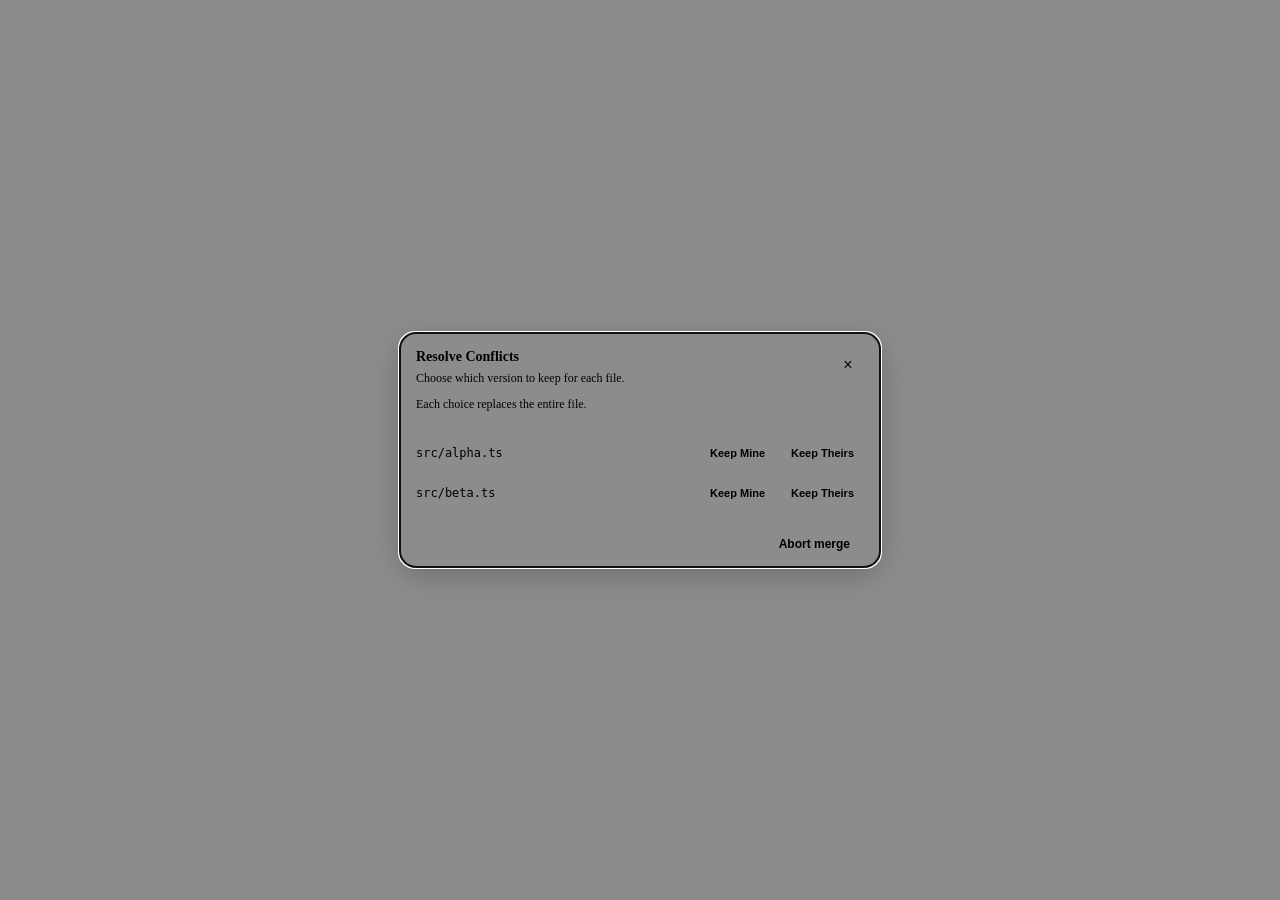
Scenario: ConflictResolver › keeps a failed abort open with an actionable error
Click the button "Abort merge" at {"x": 814, "y": 544}, box [765, 531, 864, 557]
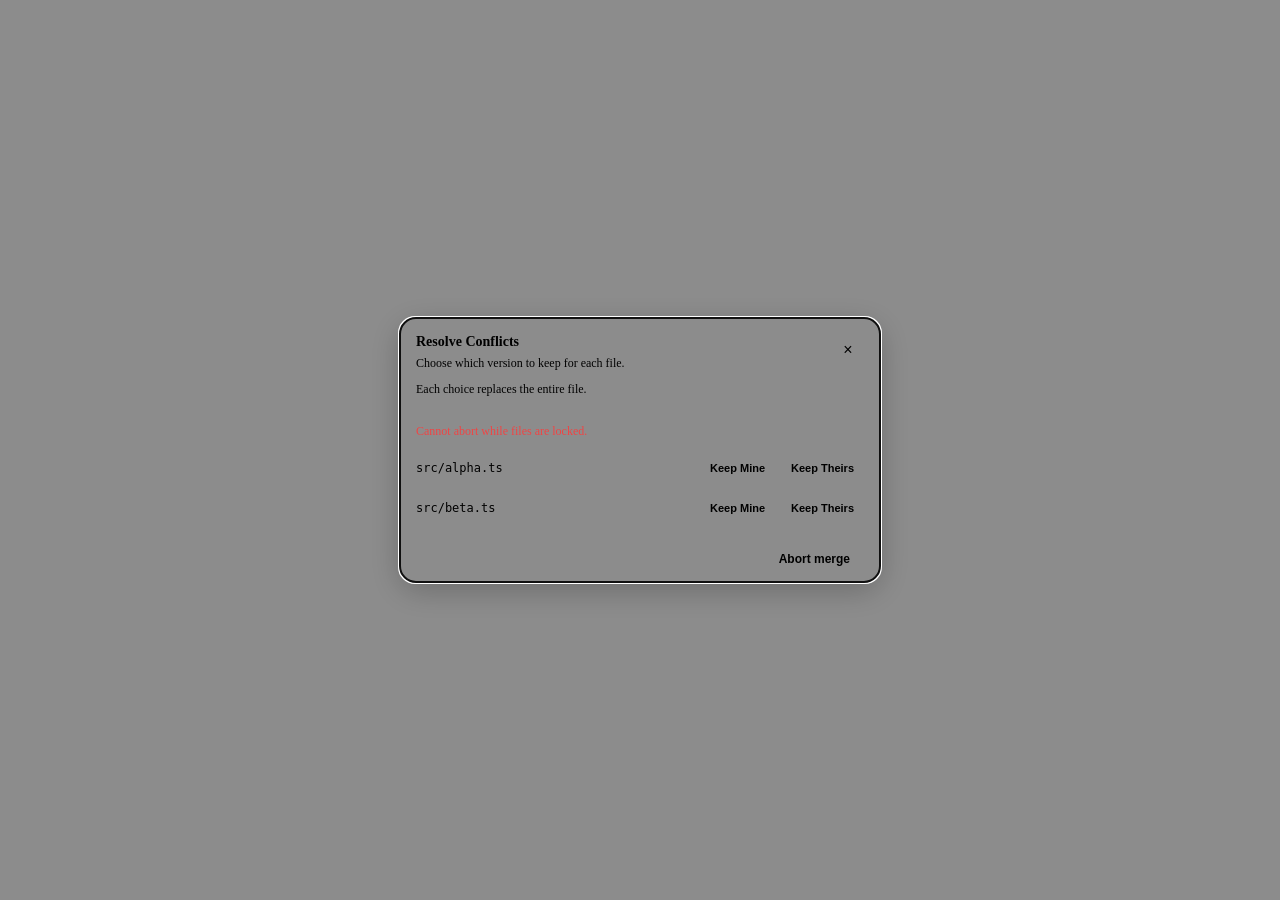
Result: the message shows "files are locked" at [416, 424, 587, 438]
